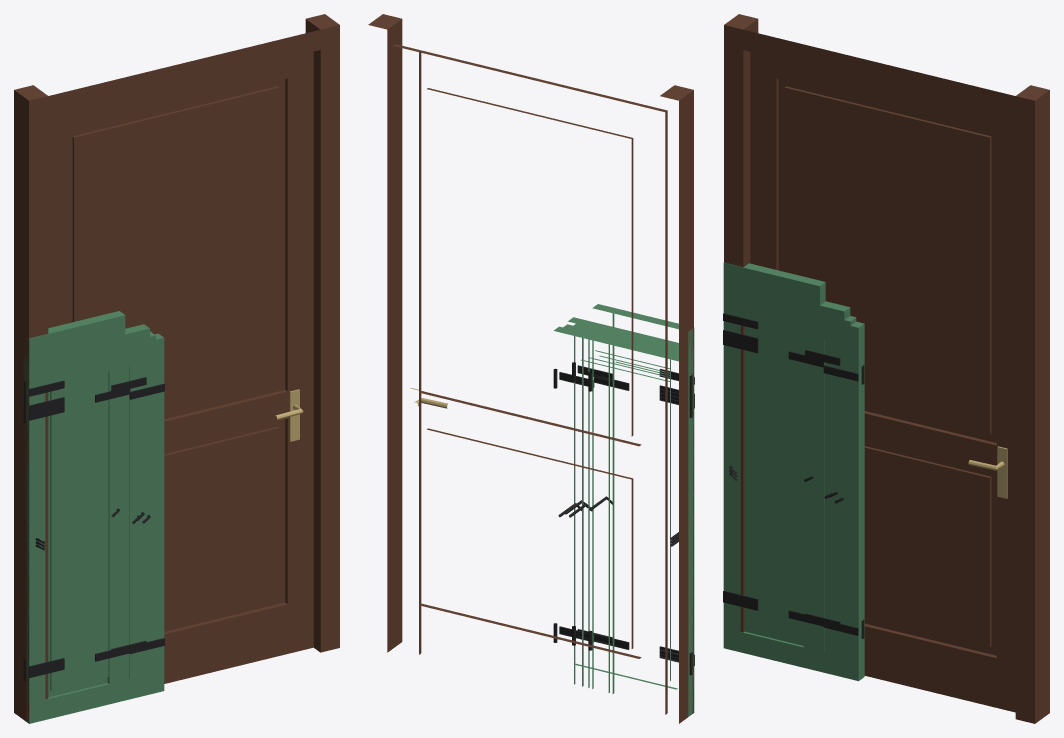
The model's file is msk2-timber-fittings.glb.
3 views of the same model, side by side, from view 1: azimuth 30°, elevation 25°; view 2: azimuth 150°, elevation 25°; view 3: azimuth 330°, elevation 25° (orthographic).
Parts seen in each view (by area): view 1: door, shutter-1, shutter-2, shutter-4, shutter-0, shutter-3, shutter-5, shutter-6; view 2: door, shutter-0, shutter-2, shutter-1, shutter-3, shutter-4, shutter-6, shutter-5; view 3: door, shutter-0, shutter-2, shutter-1, shutter-3, shutter-4, shutter-5, shutter-6.
Boxes of the visible parts, x1,y1,x2,y2 form: door: [14, 14, 339, 723]; shutter-1: [23, 311, 125, 723]; shutter-2: [23, 333, 164, 722]; shutter-4: [23, 333, 145, 719]; shutter-0: [24, 340, 130, 723]; shutter-3: [23, 324, 149, 721]; shutter-5: [35, 325, 146, 697]; shutter-6: [23, 331, 155, 720]; door: [368, 14, 693, 723]; shutter-0: [588, 331, 694, 716]; shutter-2: [553, 326, 694, 715]; shutter-1: [589, 304, 694, 715]; shutter-3: [564, 317, 694, 713]; shutter-4: [569, 323, 694, 713]; shutter-6: [558, 324, 694, 706]; shutter-5: [572, 318, 678, 688]; door: [724, 14, 1049, 723]; shutter-0: [723, 289, 824, 672]; shutter-2: [723, 295, 864, 681]; shutter-1: [723, 262, 825, 671]; shutter-3: [723, 282, 850, 677]; shutter-4: [723, 287, 840, 675]; shutter-5: [729, 287, 840, 673]; shutter-6: [723, 292, 856, 676].
Size of the model in its own units: 1.45 by 2.76 by 0.136.
